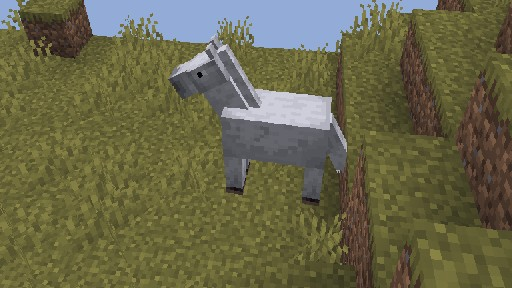horse: (167, 33, 357, 205)
